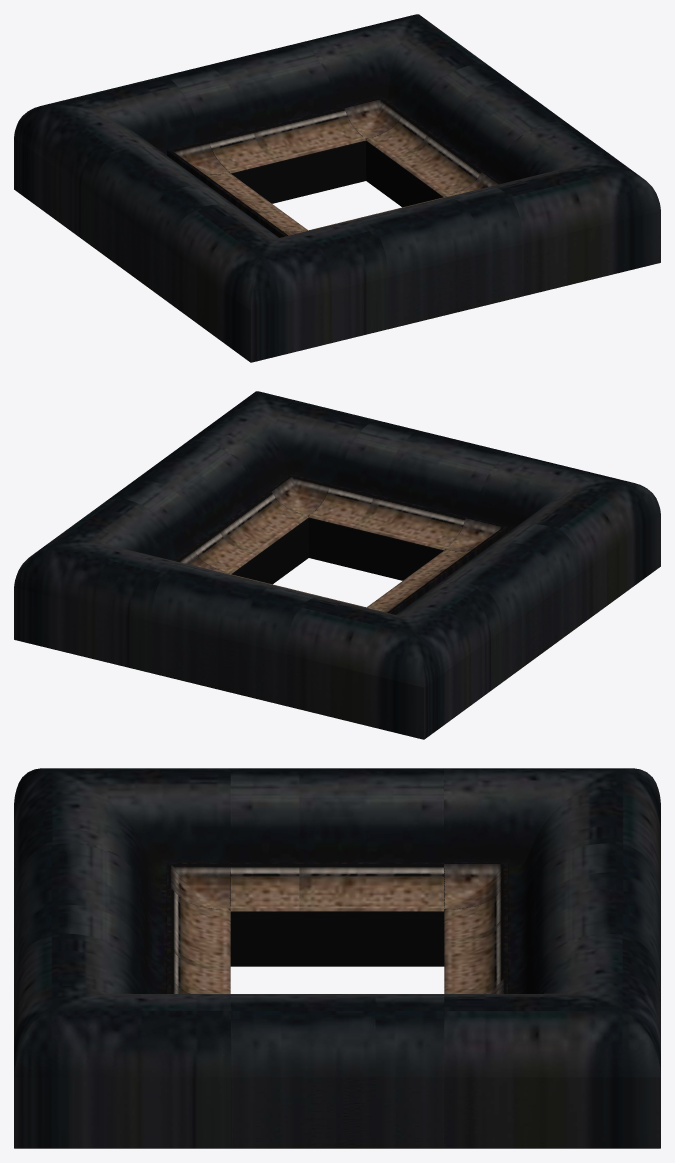
File: website3-black.FBX
3 renders of one model, top to bottom at view 1: azimuth 30°, elevation 25°; view 2: azimuth 150°, elevation 25°; view 3: azimuth 270°, elevation 25°, orthographic. The views are drawn at different scales.
Visible parts, largest first — view 1: website3black_Bottom_L_Corner, website3black_Top, website3black_Bottom_R_Corner, website3black_top_L_Corner, website3black_Bottom, website3black_R, website3black_L, website3black_top_R_Corner; view 2: website3black_top_L_Corner, website3black_Bottom, website3black_top_R_Corner, website3black_Bottom_L_Corner, website3black_Top, website3black_R, website3black_L, website3black_Bottom_R_Corner; view 3: website3black_L, website3black_top_R_Corner, website3black_Bottom_R_Corner, website3black_R, website3black_top_L_Corner, website3black_Bottom_L_Corner, website3black_Bottom, website3black_Top.
Boxes of the visible parts, bbox=[...] form: website3black_Bottom_L_Corner: bbox=[171, 204, 388, 362]; website3black_Top: bbox=[162, 43, 365, 203]; website3black_Bottom_R_Corner: bbox=[445, 121, 660, 295]; website3black_top_L_Corner: bbox=[14, 76, 230, 246]; website3black_Bottom: bbox=[310, 186, 523, 329]; website3black_R: bbox=[366, 64, 567, 207]; website3black_L: bbox=[93, 147, 307, 303]; website3black_top_R_Corner: bbox=[297, 14, 489, 180]; website3black_top_L_Corner: bbox=[286, 581, 503, 739]; website3black_Bottom: bbox=[309, 420, 512, 580]; website3black_top_R_Corner: bbox=[14, 498, 229, 672]; website3black_Bottom_L_Corner: bbox=[444, 453, 660, 623]; website3black_Top: bbox=[151, 563, 364, 706]; website3black_R: bbox=[107, 441, 308, 584]; website3black_L: bbox=[367, 524, 581, 680]; website3black_Bottom_R_Corner: bbox=[185, 391, 377, 557]; website3black_L: bbox=[230, 768, 443, 966]; website3black_top_R_Corner: bbox=[444, 933, 660, 1148]; website3black_Bottom_R_Corner: bbox=[14, 933, 230, 1148]; website3black_R: bbox=[231, 994, 444, 1148]; website3black_top_L_Corner: bbox=[444, 768, 660, 966]; website3black_Bottom_L_Corner: bbox=[14, 768, 230, 910]; website3black_Bottom: bbox=[14, 843, 230, 993]; website3black_Top: bbox=[444, 843, 660, 993].
Bounding box in the file's own units: 395 × 395 × 83.22.
2 materials, 2 textured.
